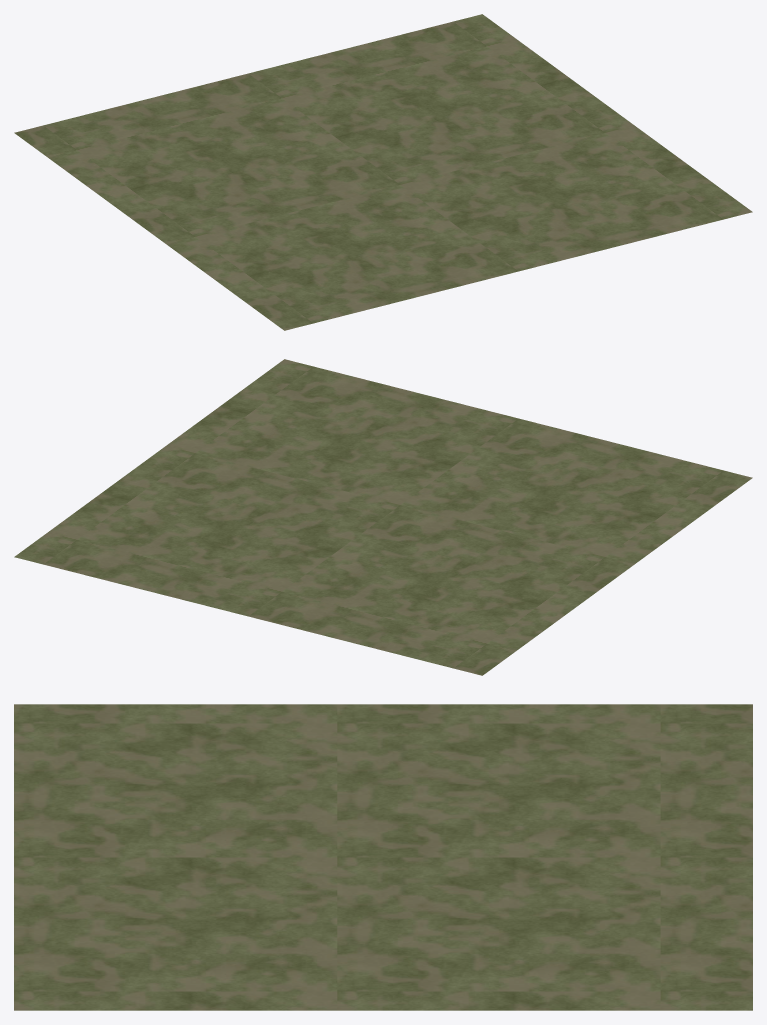
The model's file is 3_-1_5187ebc4585c.glb.
The picture shows the model from 3 angles, top to bottom: view 1: azimuth 30°, elevation 25°; view 2: azimuth 150°, elevation 25°; view 3: azimuth 270°, elevation 25°; orthographic projection. The views are drawn at different scales.
Bounding box in the file's own units: 16 × 0.144 × 16.
Materials: 1 (1 with a texture image).
